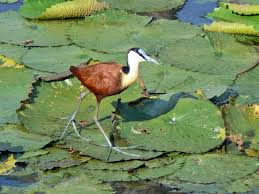Walking: (55, 44, 172, 164)
